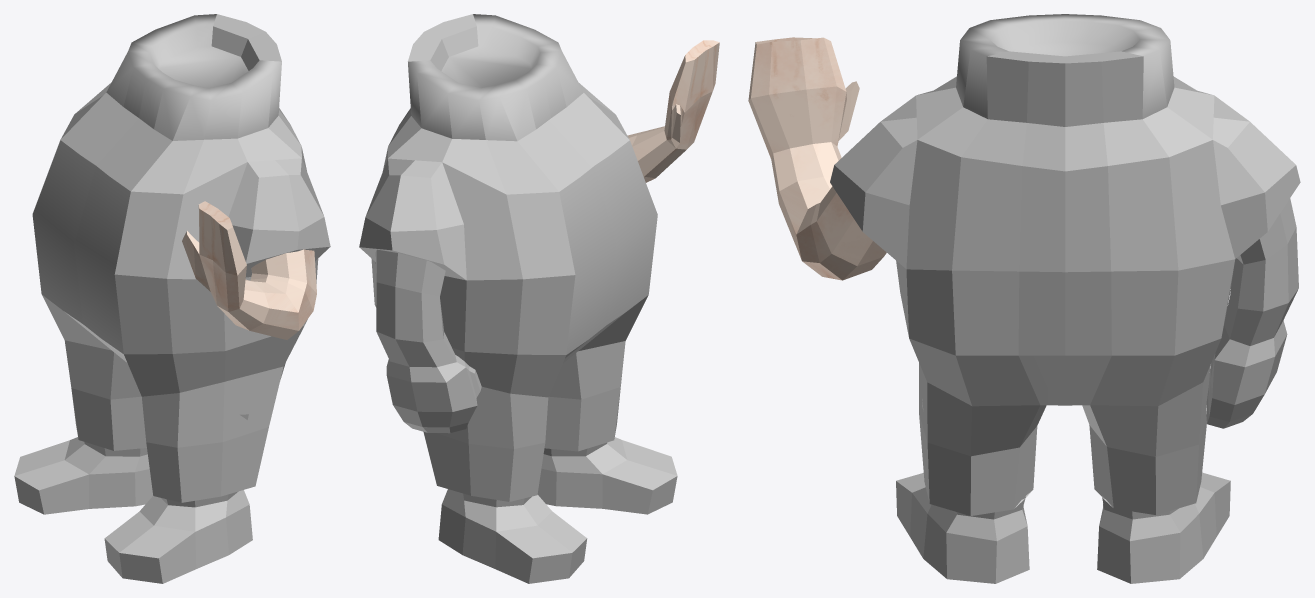
File: maskot baru badannya aja.fbx
3 renders of one model, left to right at view 1: azimuth 30°, elevation 25°; view 2: azimuth 150°, elevation 25°; view 3: azimuth 270°, elevation 25°, orthographic. The views are drawn at different scales.
Parts seen in each view (by area): view 1: Cube.007; view 2: Cube.007; view 3: Cube.007.
Boxes of the visible parts, bbox=[...] form: Cube.007: bbox=[14, 14, 330, 583]; Cube.007: bbox=[359, 14, 719, 583]; Cube.007: bbox=[748, 14, 1300, 583].
Bounding box in the file's own units: 143 × 293 × 264.
